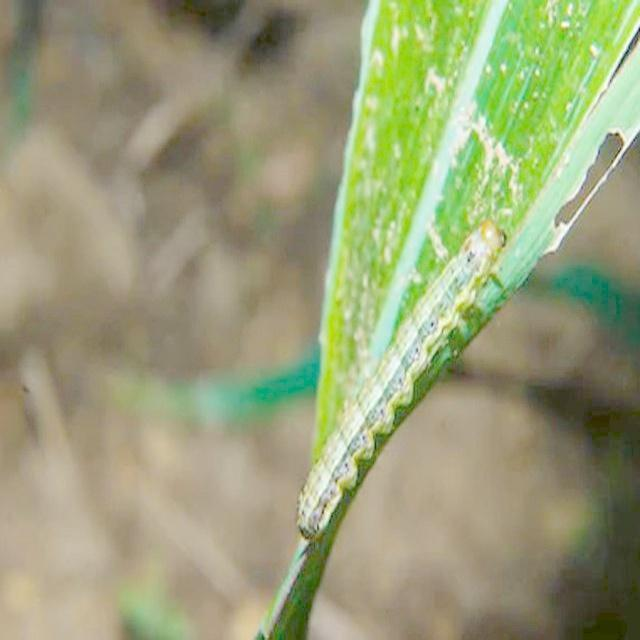Plaga: (295, 221, 510, 534)
